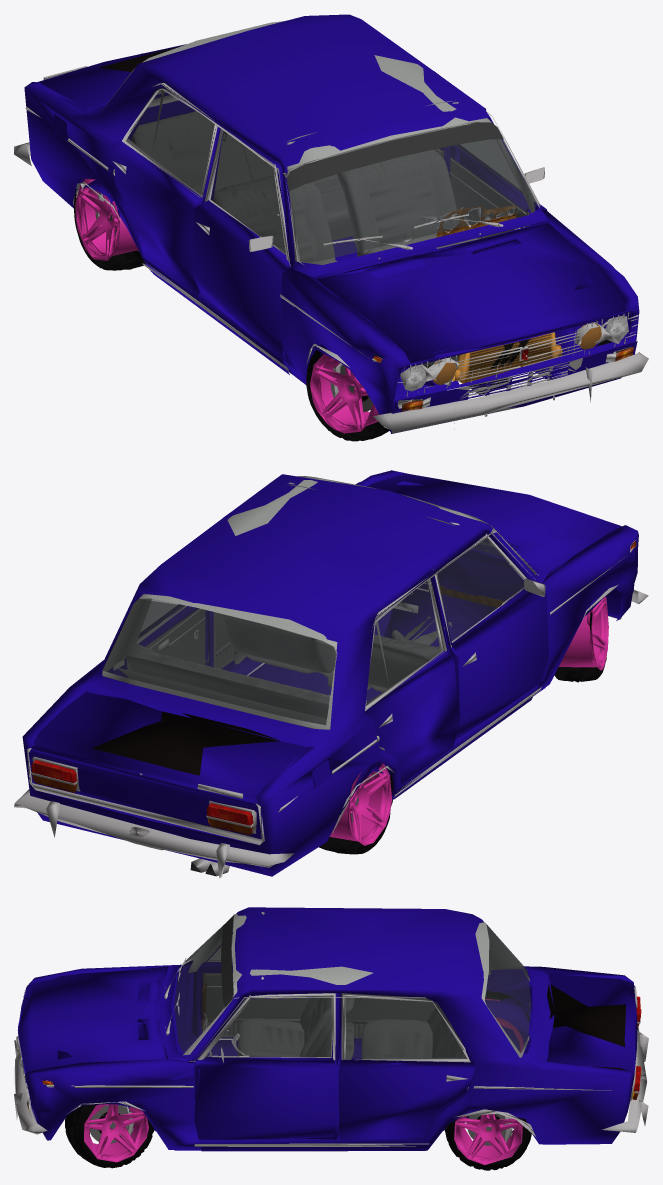
File: lada2103.glb
The picture shows the model from 3 angles, top to bottom: view 1: azimuth 30°, elevation 25°; view 2: azimuth 150°, elevation 25°; view 3: azimuth 270°, elevation 25°; orthographic projection. The views are drawn at different scales.
Visible parts, largest first — view 1: Object_53, Object_82, Object_85, Object_4, Object_45, Object_142, Object_222, Object_13, Object_42, Object_66; view 2: Object_53, Object_82, Object_4, Object_85, Object_142, Object_60, Object_45; view 3: Object_53, Object_82, Object_4, Object_85, Object_142, Object_45, Object_230.
Boxes of the visible parts, x1,y1,x2,y2 form: Object_53: (24, 14, 639, 433); Object_82: (127, 22, 536, 262); Object_85: (131, 111, 529, 264); Object_4: (14, 47, 648, 433); Object_45: (74, 122, 611, 441); Object_142: (102, 21, 535, 261); Object_222: (452, 332, 562, 383); Object_13: (222, 131, 628, 408); Object_42: (436, 205, 516, 237); Object_66: (432, 323, 601, 384); Object_53: (22, 470, 638, 876); Object_82: (102, 534, 535, 724); Object_4: (14, 532, 648, 878); Object_85: (126, 608, 440, 750); Object_142: (102, 476, 536, 729); Object_60: (31, 760, 253, 835); Object_45: (297, 476, 606, 854); Object_53: (17, 907, 637, 1151); Object_82: (174, 915, 531, 1058); Object_4: (14, 931, 648, 1164); Object_85: (203, 972, 465, 1059); Object_142: (188, 912, 529, 1061); Object_45: (65, 915, 531, 1170); Object_230: (89, 1104, 504, 1145).
Bounding box in the file's own units: 1.84 × 1.33 × 4.23.
Materials: 15 (14 with a texture image).
